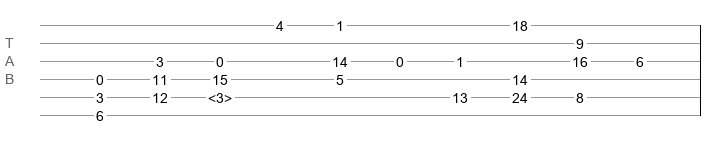0: (96, 72, 104, 82), (216, 54, 224, 64), (396, 54, 404, 64)
1: (336, 18, 344, 28), (456, 54, 464, 64)
11: (152, 72, 168, 82)
12: (152, 90, 168, 100)
13: (452, 90, 468, 100)
14: (332, 54, 348, 64), (512, 72, 528, 82)
15: (212, 72, 228, 82)
16: (572, 54, 588, 64)
18: (512, 18, 528, 28)
24: (512, 90, 528, 100)
3: (96, 90, 104, 100), (156, 54, 164, 64)
4: (276, 18, 284, 28)
5: (336, 72, 344, 82)
6: (96, 108, 104, 118), (636, 54, 644, 64)
8: (576, 90, 584, 100)
9: (576, 36, 584, 46)
harmonic: (208, 90, 232, 100)
